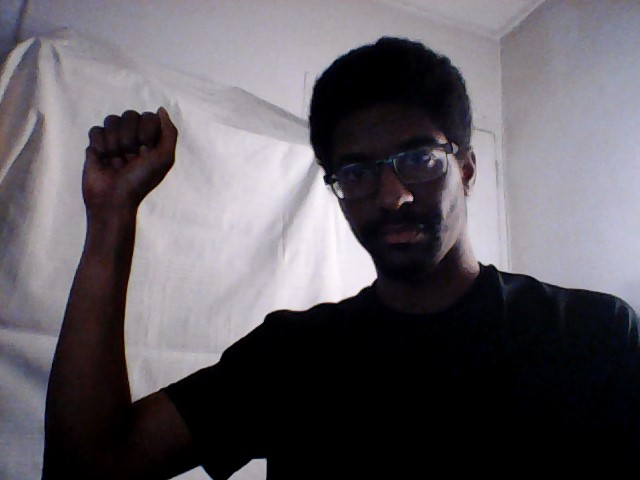a: (78, 103, 181, 208)
